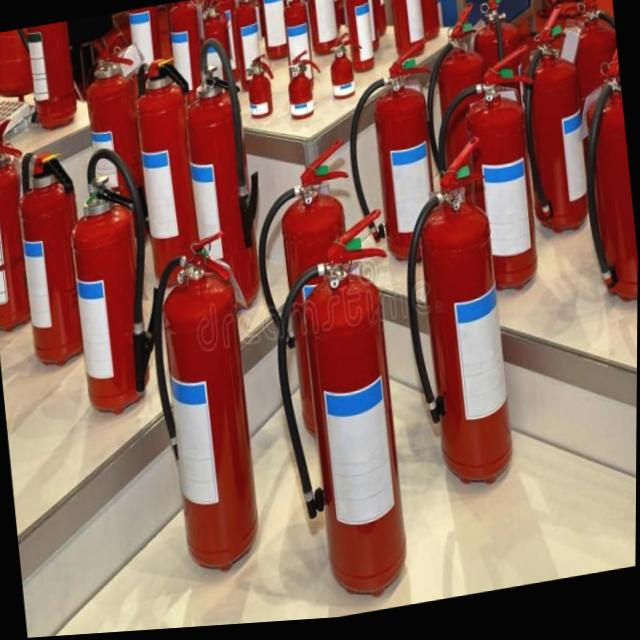FireExtinguisher: (256, 203, 430, 618), (384, 132, 524, 505), (138, 220, 273, 589), (238, 130, 387, 459), (421, 45, 561, 311), (52, 131, 169, 425), (332, 40, 454, 283), (171, 26, 267, 323), (410, 0, 518, 246), (505, 0, 609, 249), (7, 138, 99, 373), (547, 0, 635, 245), (127, 50, 211, 297), (564, 58, 639, 323), (78, 30, 160, 253), (460, 0, 548, 202), (0, 108, 40, 334), (20, 20, 83, 140), (160, 0, 212, 119), (195, 0, 242, 124), (120, 6, 171, 108), (225, 0, 274, 99), (275, 0, 323, 95), (322, 19, 371, 108), (281, 44, 328, 128), (380, 0, 430, 67), (337, 0, 378, 78), (240, 48, 280, 124), (255, 0, 293, 65), (302, 0, 341, 61), (0, 32, 8, 154)
